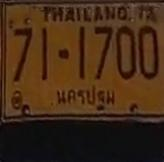0: (138, 25, 158, 78), (115, 25, 135, 78)
1: (78, 27, 85, 79), (42, 27, 48, 77)
7: (13, 27, 32, 80), (94, 26, 112, 78)
NPT: (54, 82, 115, 110)
